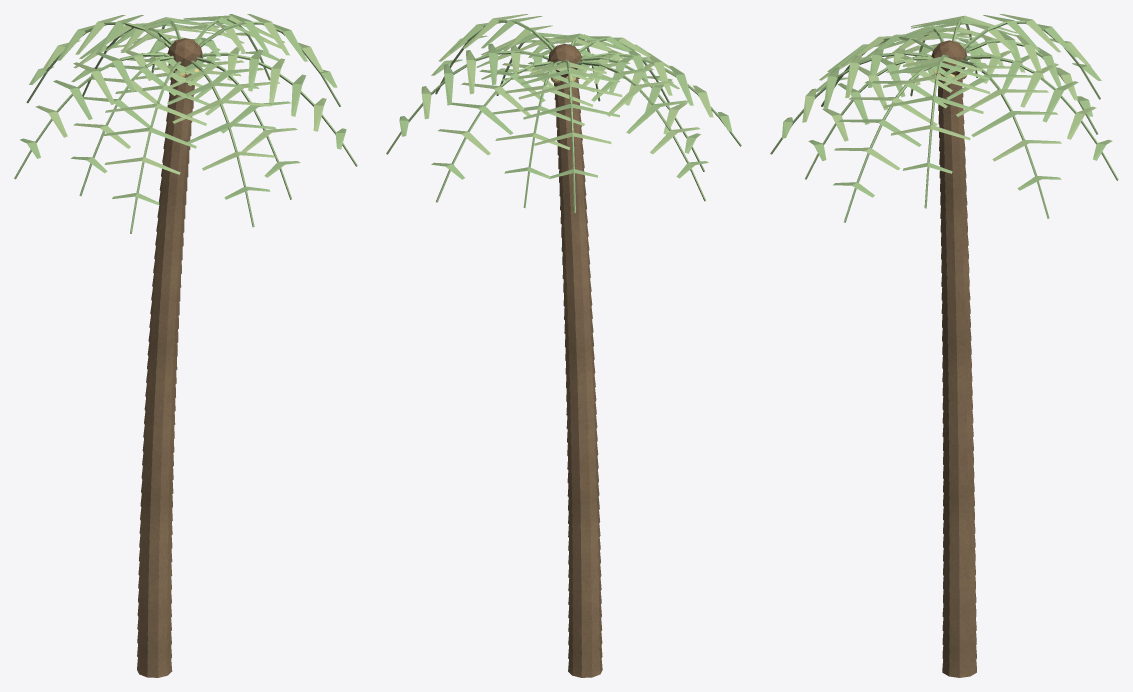
The model's file is palm.glb.
The picture shows the model from 3 angles, left to right: view 1: azimuth 30°, elevation 25°; view 2: azimuth 150°, elevation 25°; view 3: azimuth 270°, elevation 25°; orthographic projection. The views are drawn at different scales.
Visible parts, largest first — view 1: palm_palm_t, palm_frond, palm_leaf2, palm_bark; view 2: palm_palm_t, palm_frond, palm_leaf2, palm_bark; view 3: palm_palm_t, palm_frond, palm_leaf2, palm_bark.
Boxes of the visible parts, <box> form: palm_palm_t: <box>137,70,194,677</box>; palm_frond: <box>14,14,357,233</box>; palm_leaf2: <box>35,14,326,174</box>; palm_bark: <box>167,38,202,72</box>; palm_palm_t: <box>554,77,602,677</box>; palm_frond: <box>386,16,741,212</box>; palm_leaf2: <box>421,14,713,155</box>; palm_bark: <box>547,44,581,77</box>; palm_palm_t: <box>938,75,976,677</box>; palm_frond: <box>770,15,1118,222</box>; palm_leaf2: <box>802,14,1096,170</box>; palm_bark: <box>931,40,967,75</box>.
Bounding box in the file's own units: 4.15 × 8.38 × 4.08.
5 materials, 2 textured.
